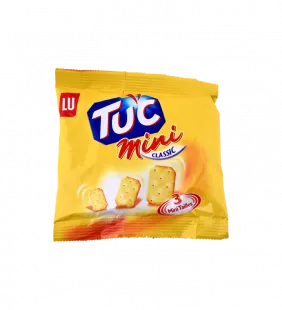MINI TUC: (44, 60, 237, 252)
